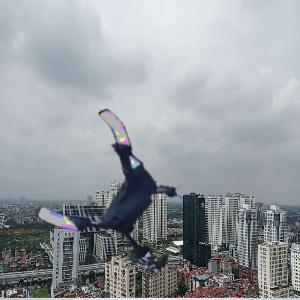drone: (49, 116, 190, 257)
